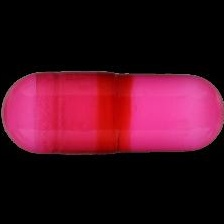61919-079: (0, 0, 224, 224)
